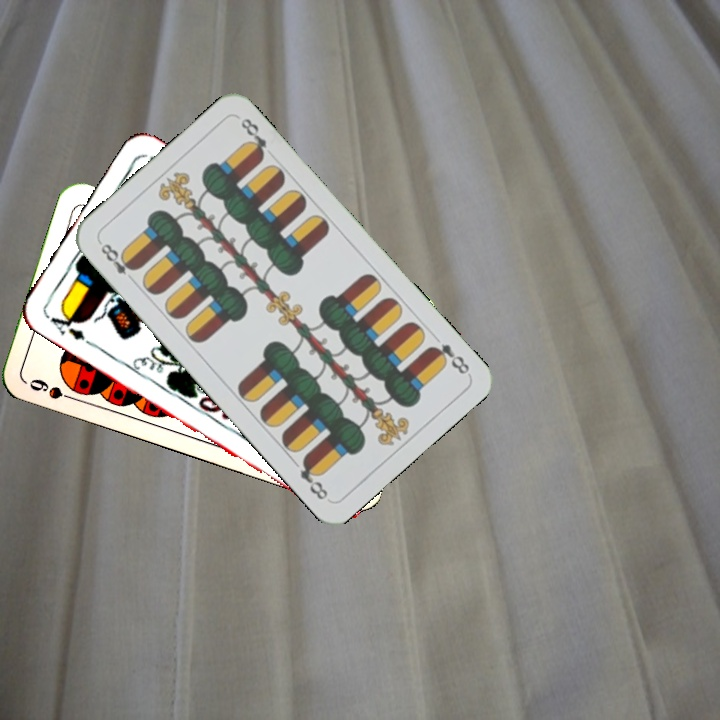E8: (95, 238, 140, 286), (424, 339, 472, 377)
EA: (46, 306, 88, 343)
S9: (22, 374, 82, 404)
